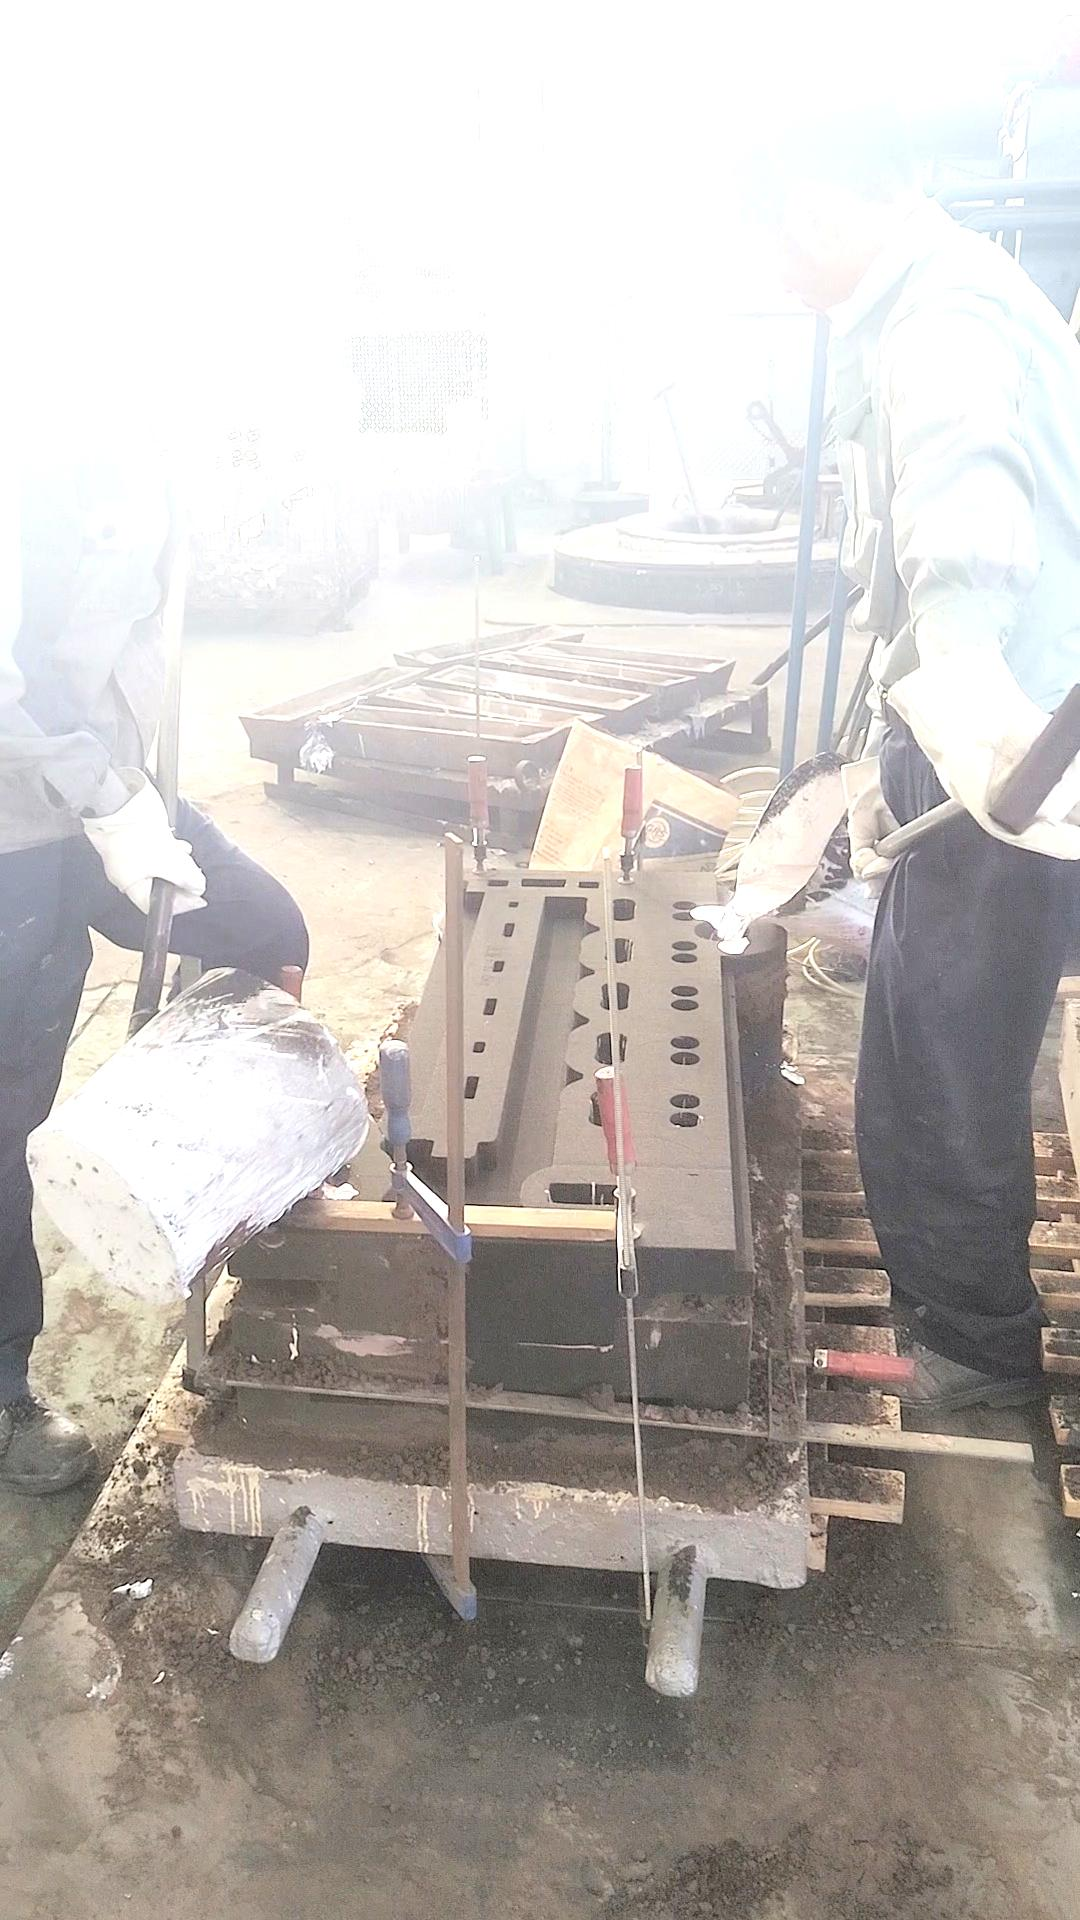pouring hole: (286, 1166, 360, 1207), (694, 918, 750, 942)
